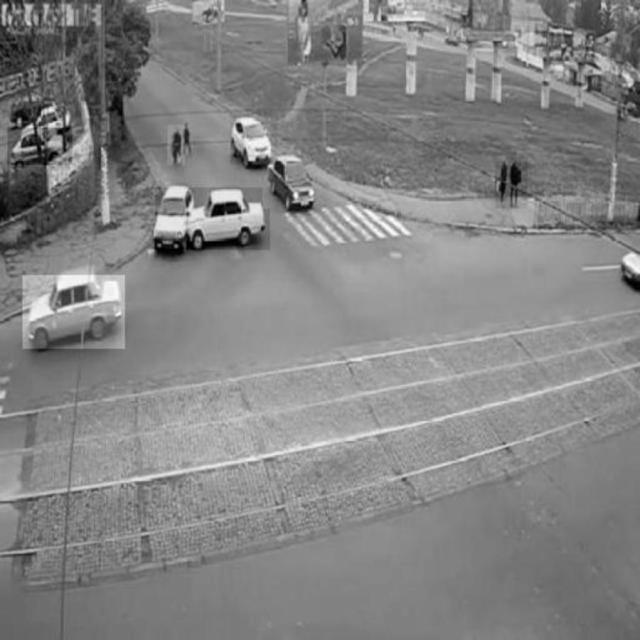accident: (155, 188, 271, 250)
person: (508, 158, 528, 209), (495, 158, 512, 209), (168, 125, 185, 166)
vehicle: (23, 276, 125, 349), (262, 152, 320, 209), (231, 113, 278, 165), (8, 128, 72, 165)
